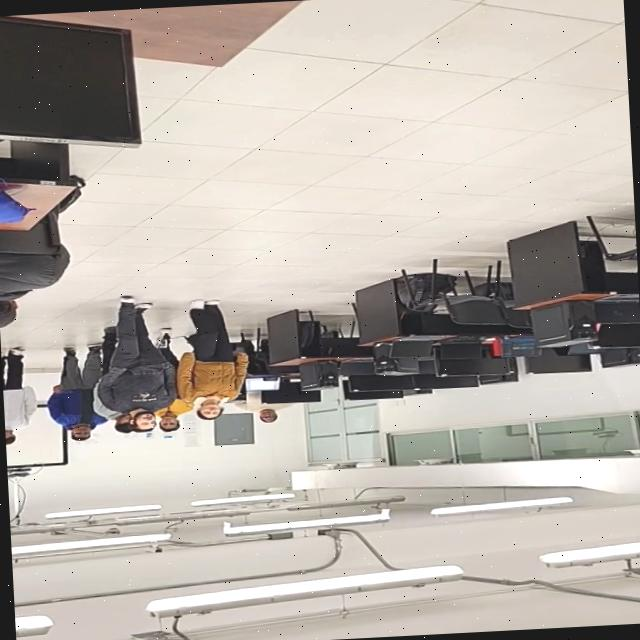Persona: (108, 303, 169, 434), (180, 302, 237, 424), (54, 351, 104, 444), (2, 357, 29, 448), (156, 404, 192, 436), (238, 404, 290, 426)
